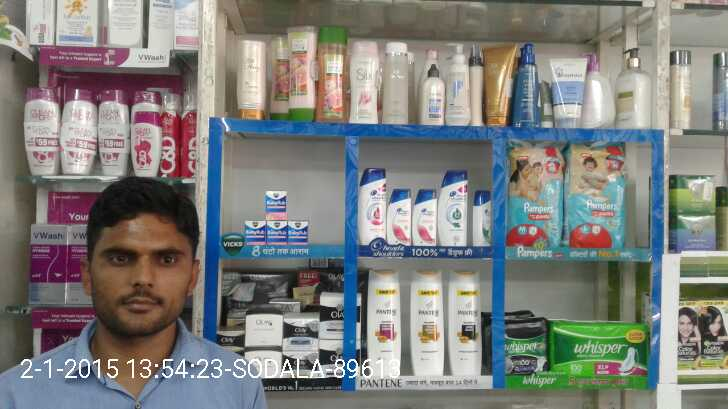vicks: (242, 188, 312, 248)
